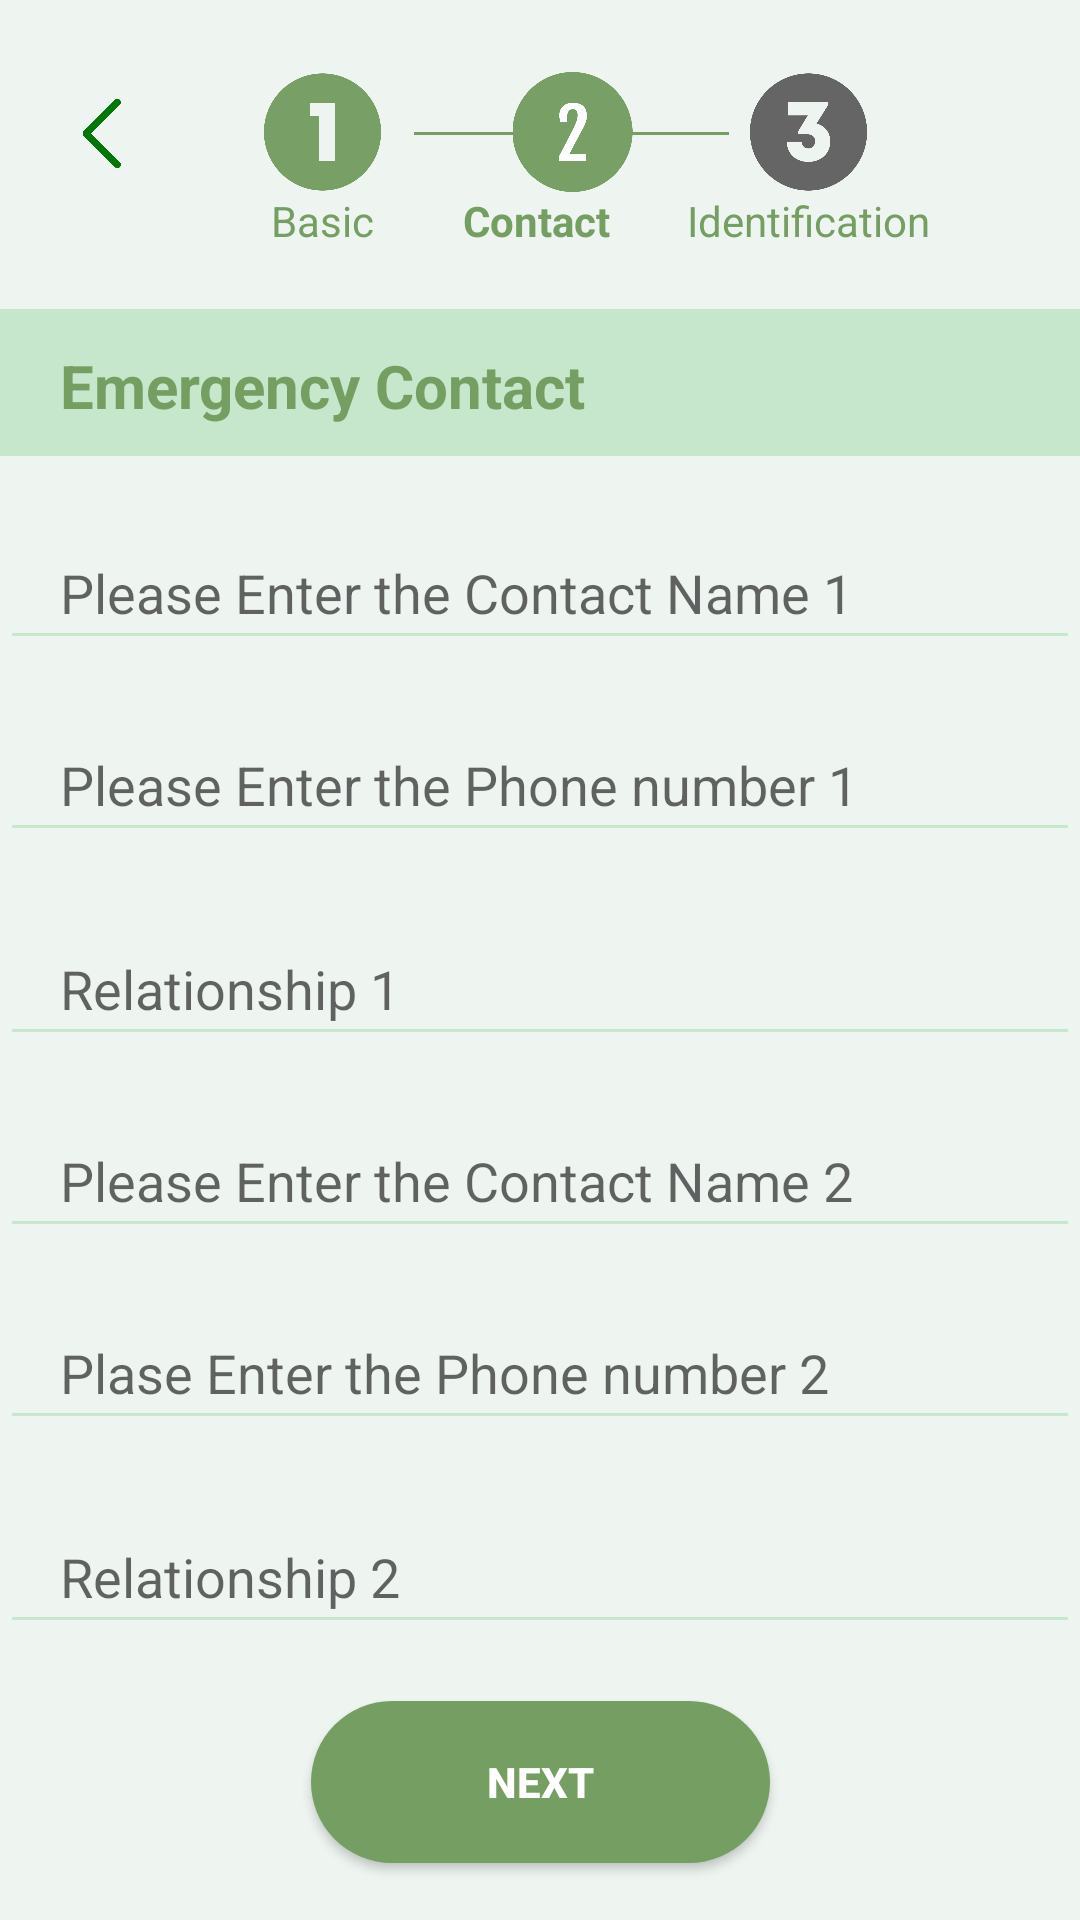

Screen size 1080 × 1920. Icon name, then its box in pixels as bbox(x1, y1, x2, y2):
oneg: bbox(264, 73, 381, 191)
threeb: bbox(750, 73, 867, 191)
twog: bbox(493, 72, 652, 192)
